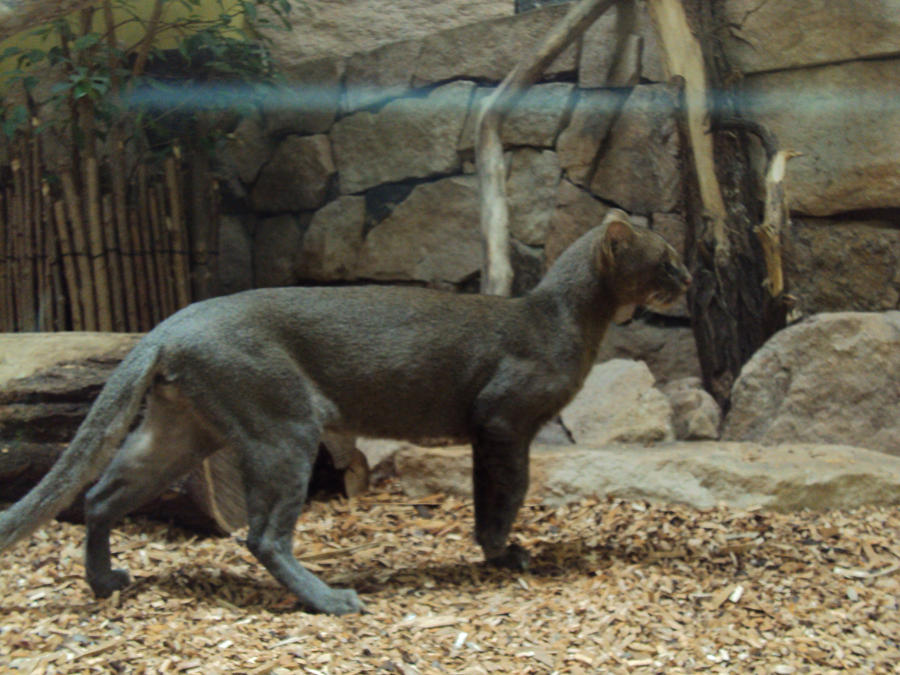Jaguarundi: (36, 202, 699, 624)
